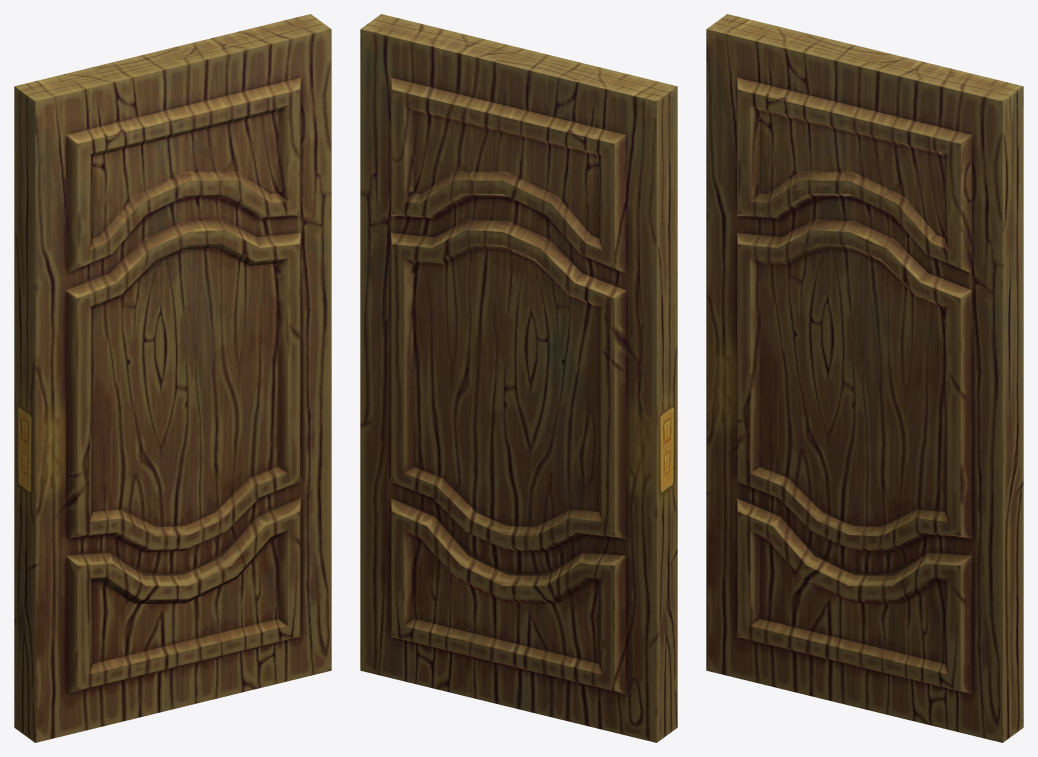
File: Door.fbx
The picture shows the model from 3 angles, left to right: view 1: azimuth 30°, elevation 25°; view 2: azimuth 150°, elevation 25°; view 3: azimuth 330°, elevation 25°; orthographic projection.
Visible parts, largest first — view 1: Door_low; view 2: Door_low; view 3: Door_low.
Part boxes in pixels (x1,y1,x2,y2): Door_low: (14, 14, 331, 742); Door_low: (360, 14, 677, 742); Door_low: (706, 14, 1023, 742).
Size of the model in its own units: 95.53 by 198 by 17.63.
1 material, 1 textured.
